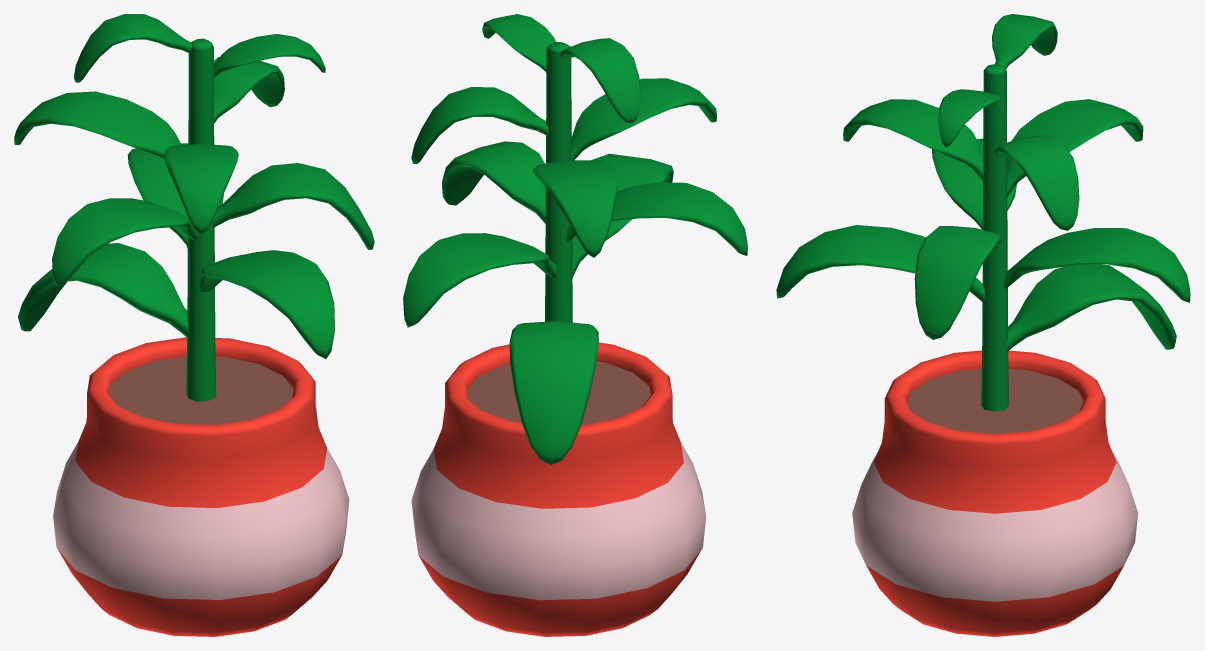
Rendered from City_5_Plant_4.glb.
3 renders of one model, left to right at view 1: azimuth 30°, elevation 25°; view 2: azimuth 150°, elevation 25°; view 3: azimuth 270°, elevation 25°, orthographic. The views are drawn at different scales.
Parts seen in each view (by area): view 1: City_5_Plant_4; view 2: City_5_Plant_4; view 3: City_5_Plant_4.
Part boxes in pixels (<box>): City_5_Plant_4: <box>14,14,374,636</box>; City_5_Plant_4: <box>403,14,747,636</box>; City_5_Plant_4: <box>776,14,1190,636</box>.
Size of the model in its own units: 0.7068 by 1.25 by 0.855.
1 material, 1 textured.
